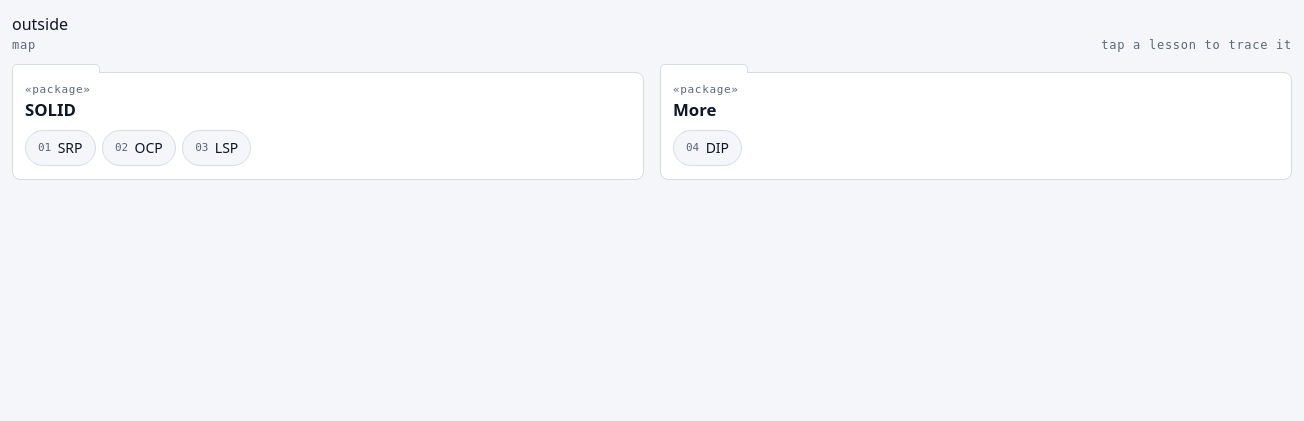
Test: ModuleMap › traces a lesson: it and its links stay, a card shows what it connects to
Click the button "03 LSP".
click(217, 148)  # box left=182, top=130, right=251, bottom=166
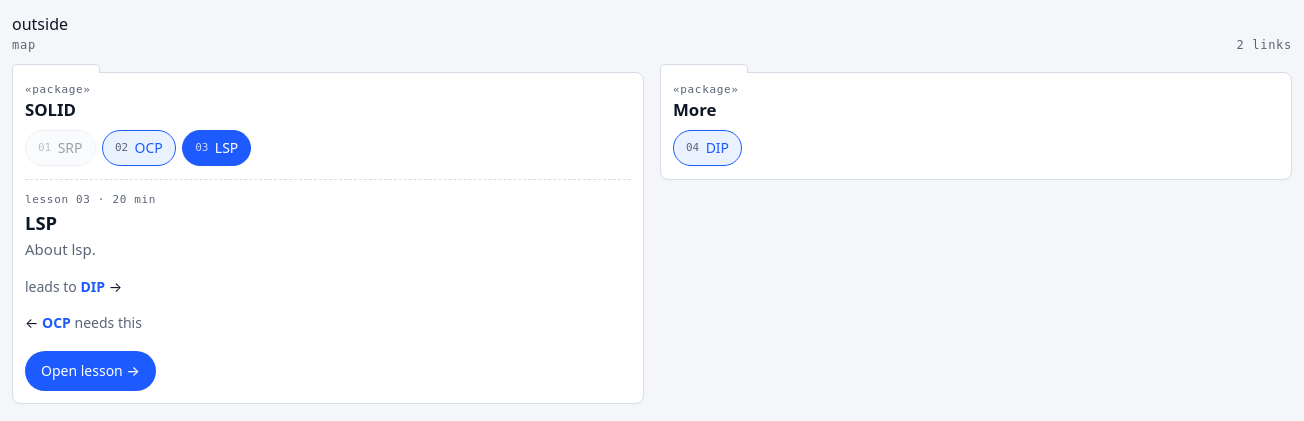
Expected: the text "About lsp." is shown, left=25, top=239, right=96, bottom=259
Expected: the buttons read "leads to DIP →", "← OCP needs this", in this order, left=25, top=269, right=122, bottom=305; left=25, top=305, right=142, bottom=341
